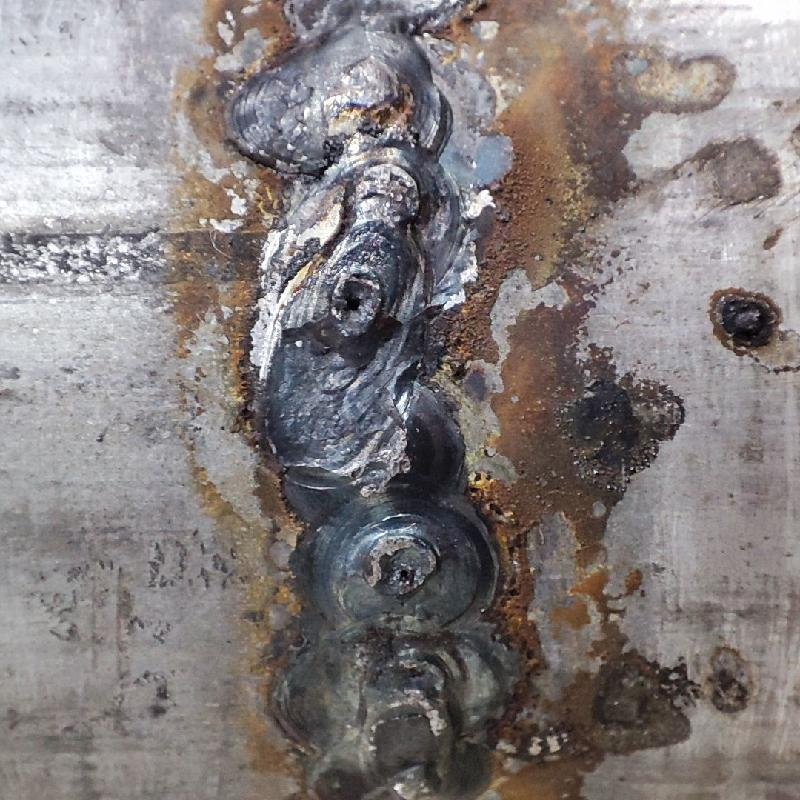Surface_pores: (365, 542, 425, 600), (336, 280, 373, 334)
wrong_size: (243, 1, 493, 794)
